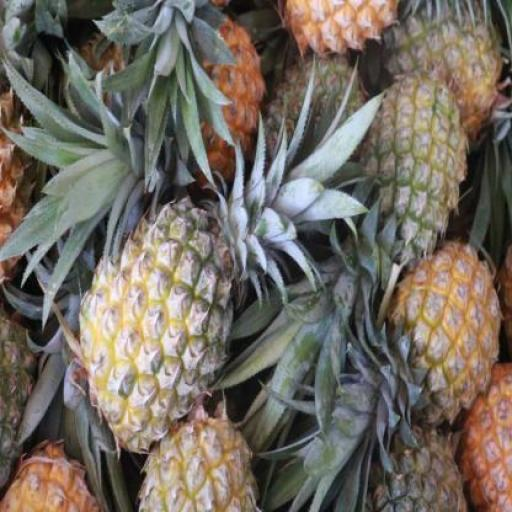------------------------------: (81, 201, 233, 449), (360, 72, 460, 266), (137, 408, 257, 510)
Pineapple - v8 v1: (392, 242, 500, 426)
